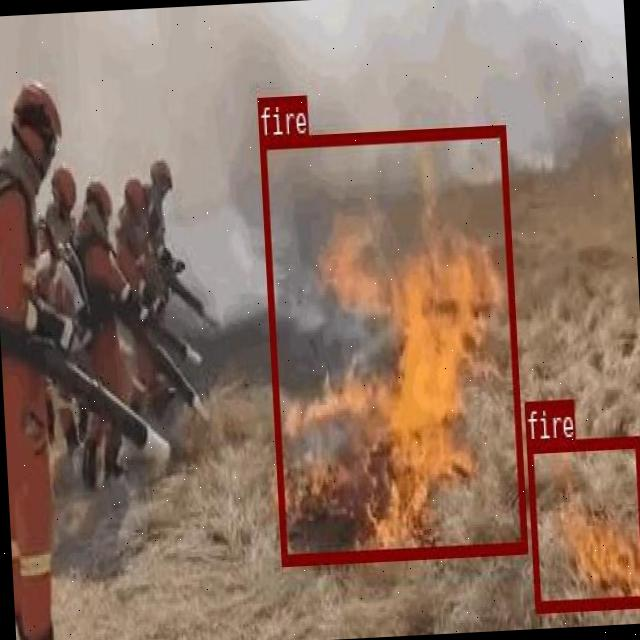fire: (259, 124, 526, 564), (525, 435, 640, 611)
